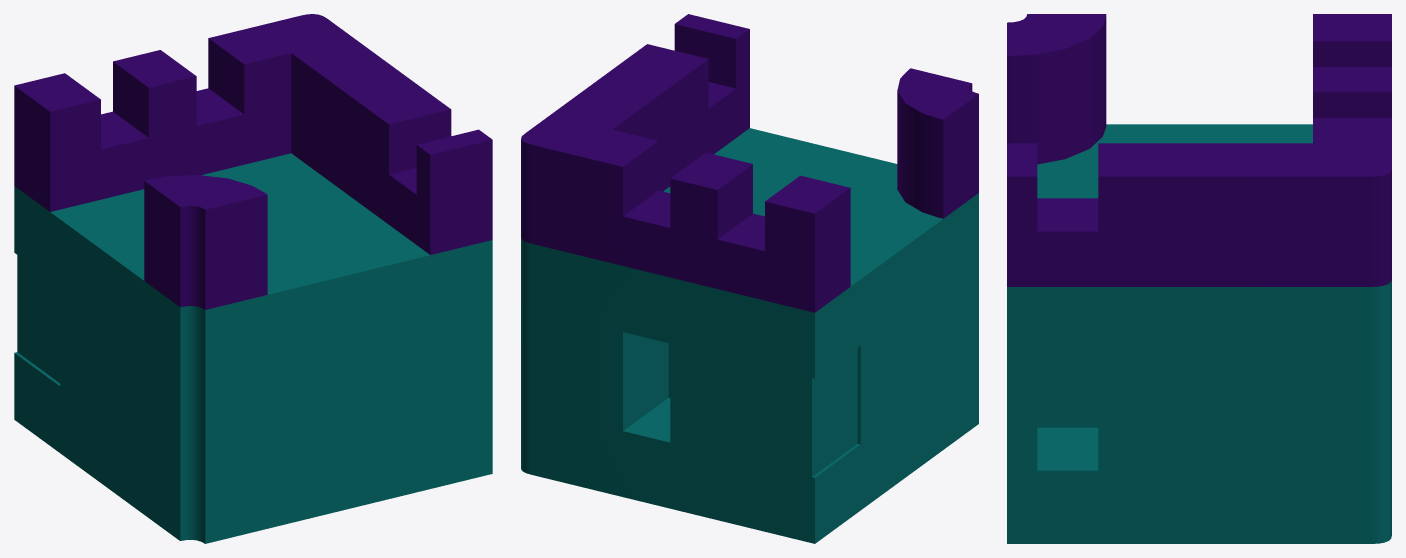
Rendered from Roof_03_L_F.fbx.
The picture shows the model from 3 angles, left to right: view 1: azimuth 30°, elevation 25°; view 2: azimuth 150°, elevation 25°; view 3: azimuth 270°, elevation 25°; orthographic projection. The views are drawn at different scales.
Visible parts, largest first — view 1: 3, 1, 4, 2; view 2: 4, 2, 3, 1; view 3: 2, 1, 3, 4.
Boxes of the visible parts, bbox=[...] form: 3: bbox=[101, 175, 340, 543]; 1: bbox=[267, 75, 492, 510]; 4: bbox=[14, 50, 201, 483]; 2: bbox=[196, 14, 404, 209]; 4: bbox=[665, 152, 901, 543]; 2: bbox=[521, 77, 670, 507]; 3: bbox=[753, 68, 978, 479]; 1: bbox=[602, 14, 837, 211]; 2: bbox=[1199, 118, 1391, 543]; 1: bbox=[1007, 143, 1199, 543]; 3: bbox=[1007, 14, 1199, 198]; 4: bbox=[1199, 14, 1391, 143].
Bounding box in the file's own units: 190 × 200 × 190.
